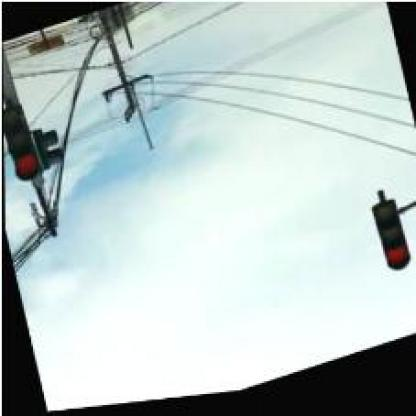red: (2, 99, 42, 187), (370, 201, 411, 283)
